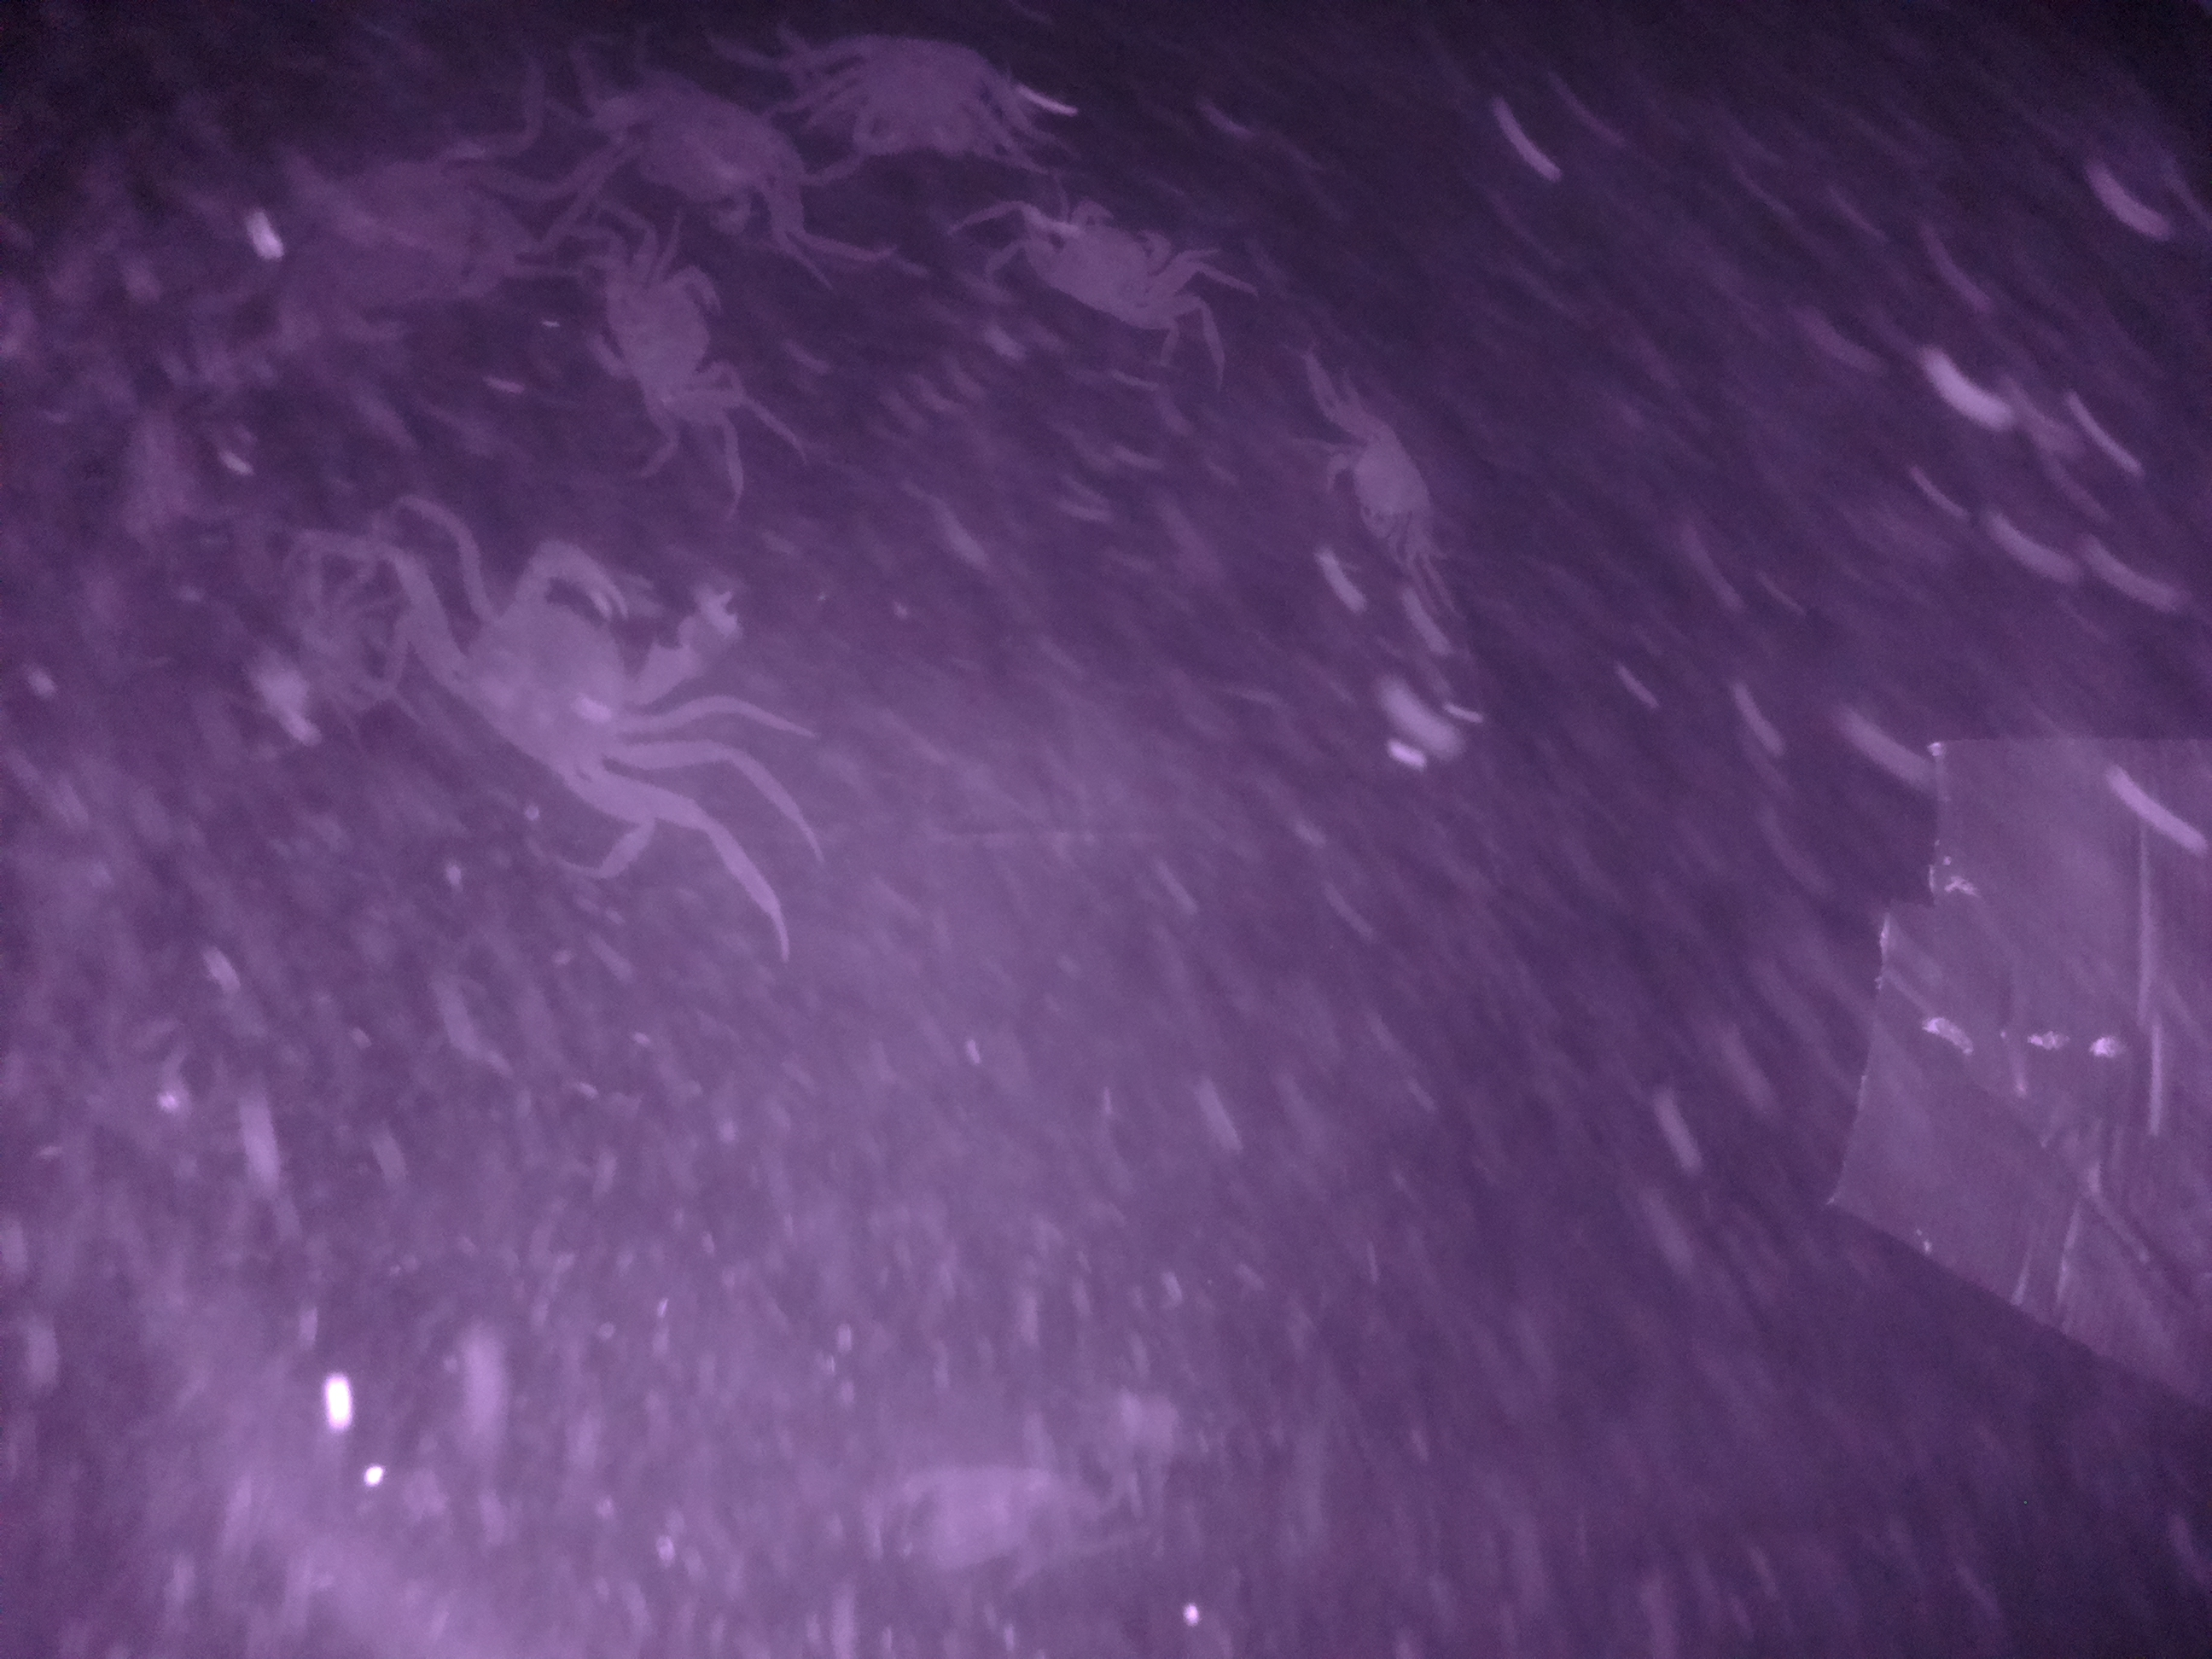Crab: (425, 528, 754, 803), (805, 24, 1033, 169), (1021, 190, 1204, 347), (596, 244, 742, 415), (1322, 408, 1447, 542)
